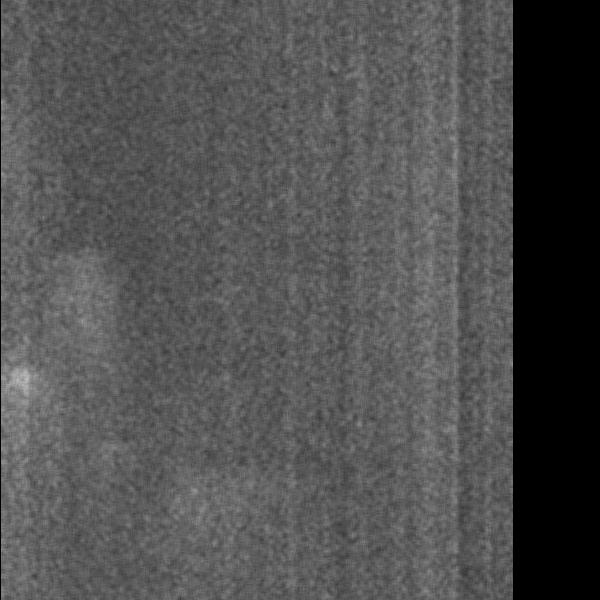spark: (1, 361, 32, 438)
